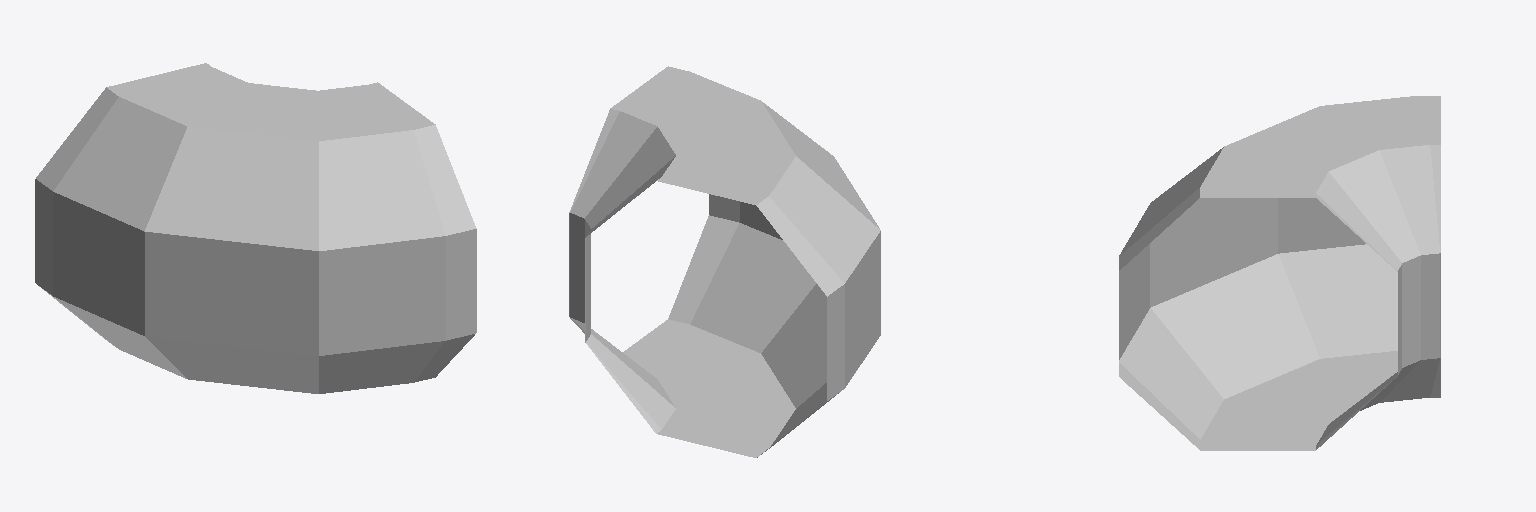
File: pipeCurve.obj
3 views of the same model, side by side, from view 1: azimuth 30°, elevation 25°; view 2: azimuth 150°, elevation 25°; view 3: azimuth 270°, elevation 25° (orthographic).
Parts seen in each view (by area): view 1: mesh01; view 2: mesh01; view 3: mesh01.
Part boxes in pixels (x1,y1,x2,y2): mesh01: (35, 63, 476, 393); mesh01: (569, 66, 880, 457); mesh01: (1119, 96, 1440, 450).
Size of the model in its own units: 0.8806 by 0.7611 by 0.8806.